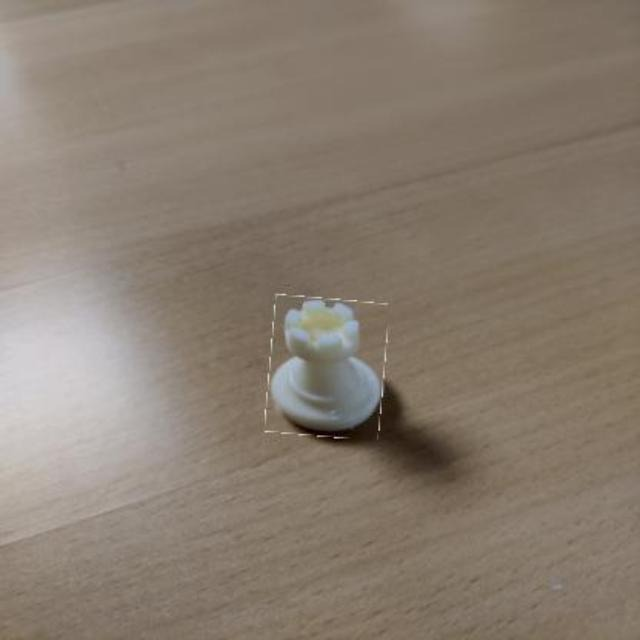white-rook: (268, 296, 388, 437)
